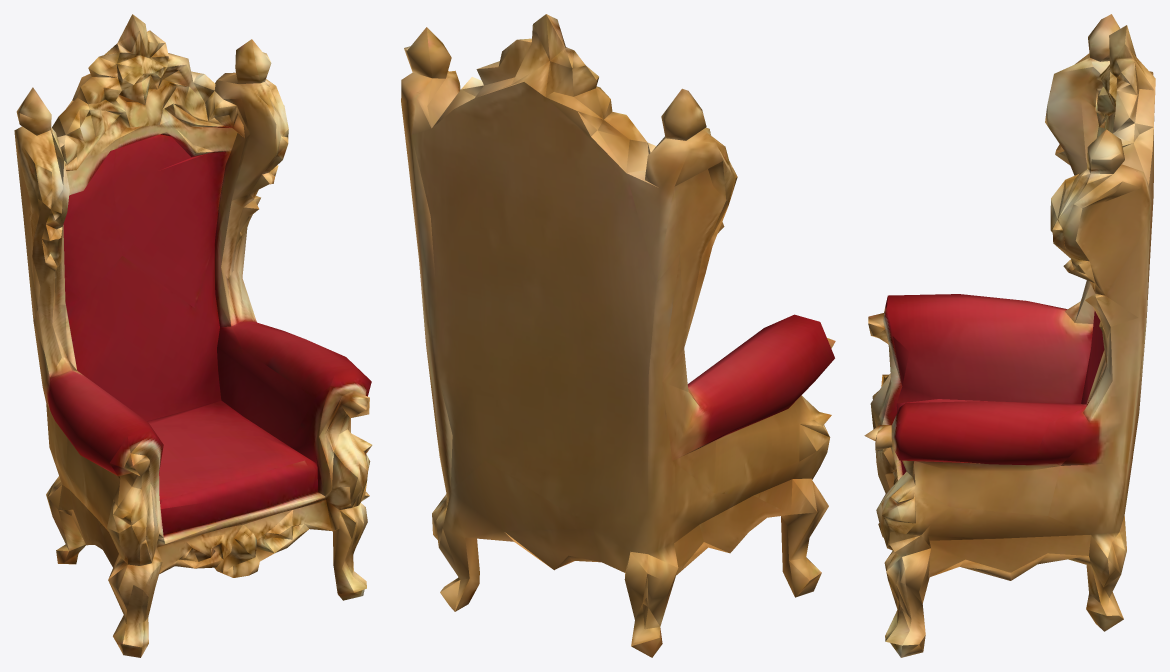
File: royalThrone.glb
3 renders of one model, left to right at view 1: azimuth 30°, elevation 25°; view 2: azimuth 150°, elevation 25°; view 3: azimuth 270°, elevation 25°, orthographic. The views are drawn at different scales.
Parts seen in each view (by area): view 1: model; view 2: model; view 3: model.
Part boxes in pixels (box(x1,y1,x2,y2)): model: box(14, 14, 372, 657); model: box(401, 14, 835, 657); model: box(864, 14, 1155, 657).
Size of the model in its own units: 1 by 1.91 by 0.8847.
1 material, 1 textured.
